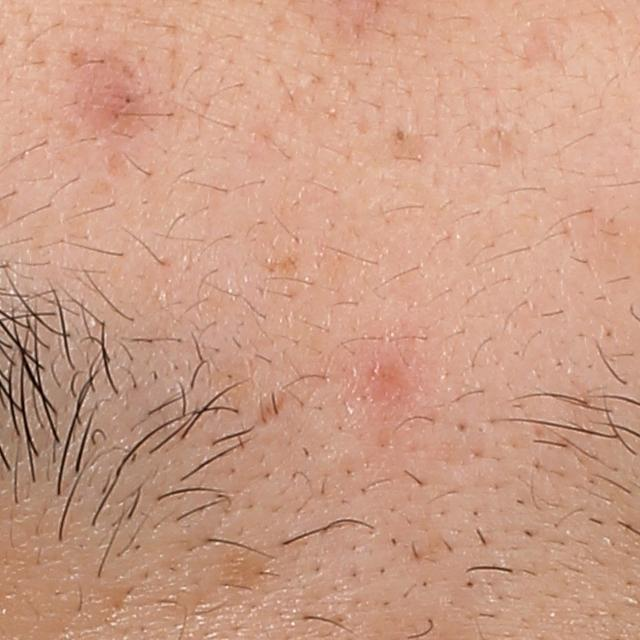atrophic_scar: (520, 15, 563, 74), (254, 394, 287, 426)
comedo: (383, 116, 418, 151)
